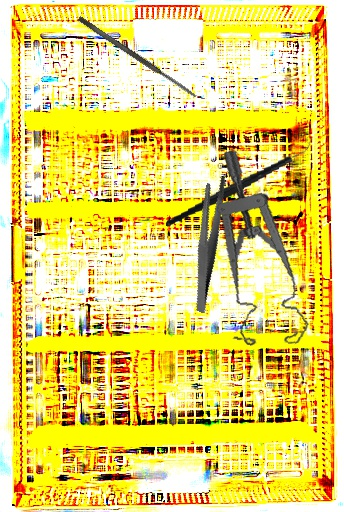Chopper: (156, 135, 324, 228)
Dressing Forceps: (161, 172, 255, 314)
Spatula Surgical: (77, 15, 198, 100)
Speculum: (193, 147, 334, 355)
